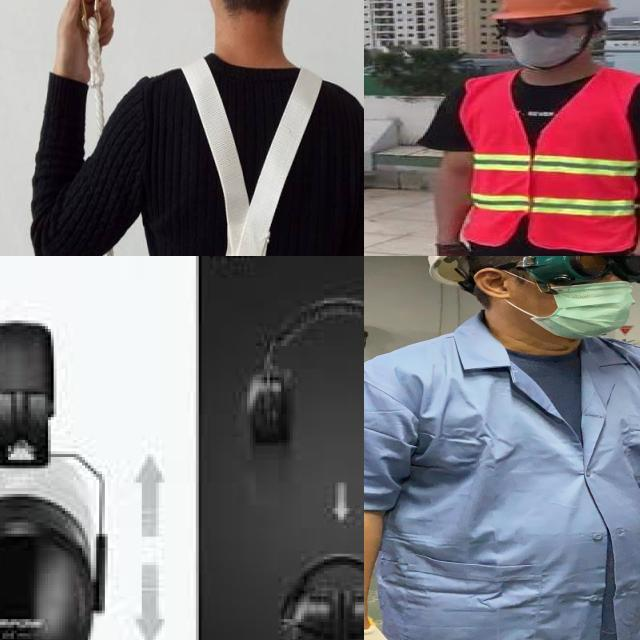Ear-protection: (0, 488, 96, 640), (271, 551, 364, 640), (242, 363, 296, 443)
Harness: (157, 54, 323, 256)
No_Ear-Protection: (475, 268, 544, 317)
face_mask: (508, 282, 635, 339), (495, 15, 586, 68)
glasses: (515, 256, 640, 292), (490, 16, 576, 42)
hand_glove: (433, 244, 476, 256)
head_helmet: (485, 0, 618, 22)
person: (417, 0, 640, 256)
vest: (464, 72, 640, 254)
